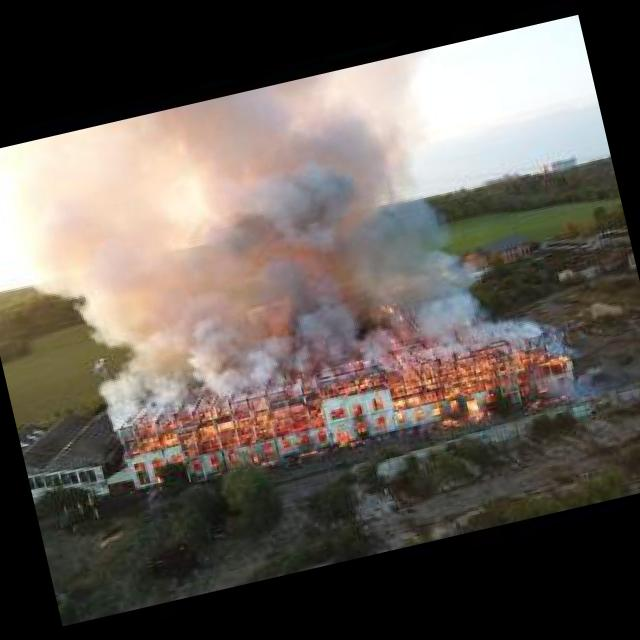Fire: (119, 332, 580, 500)
Smoke: (28, 51, 495, 428)
